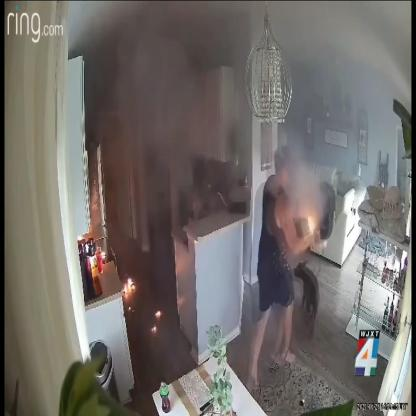fire: (124, 278, 135, 294), (308, 216, 316, 233), (155, 311, 161, 316), (152, 326, 156, 331)
